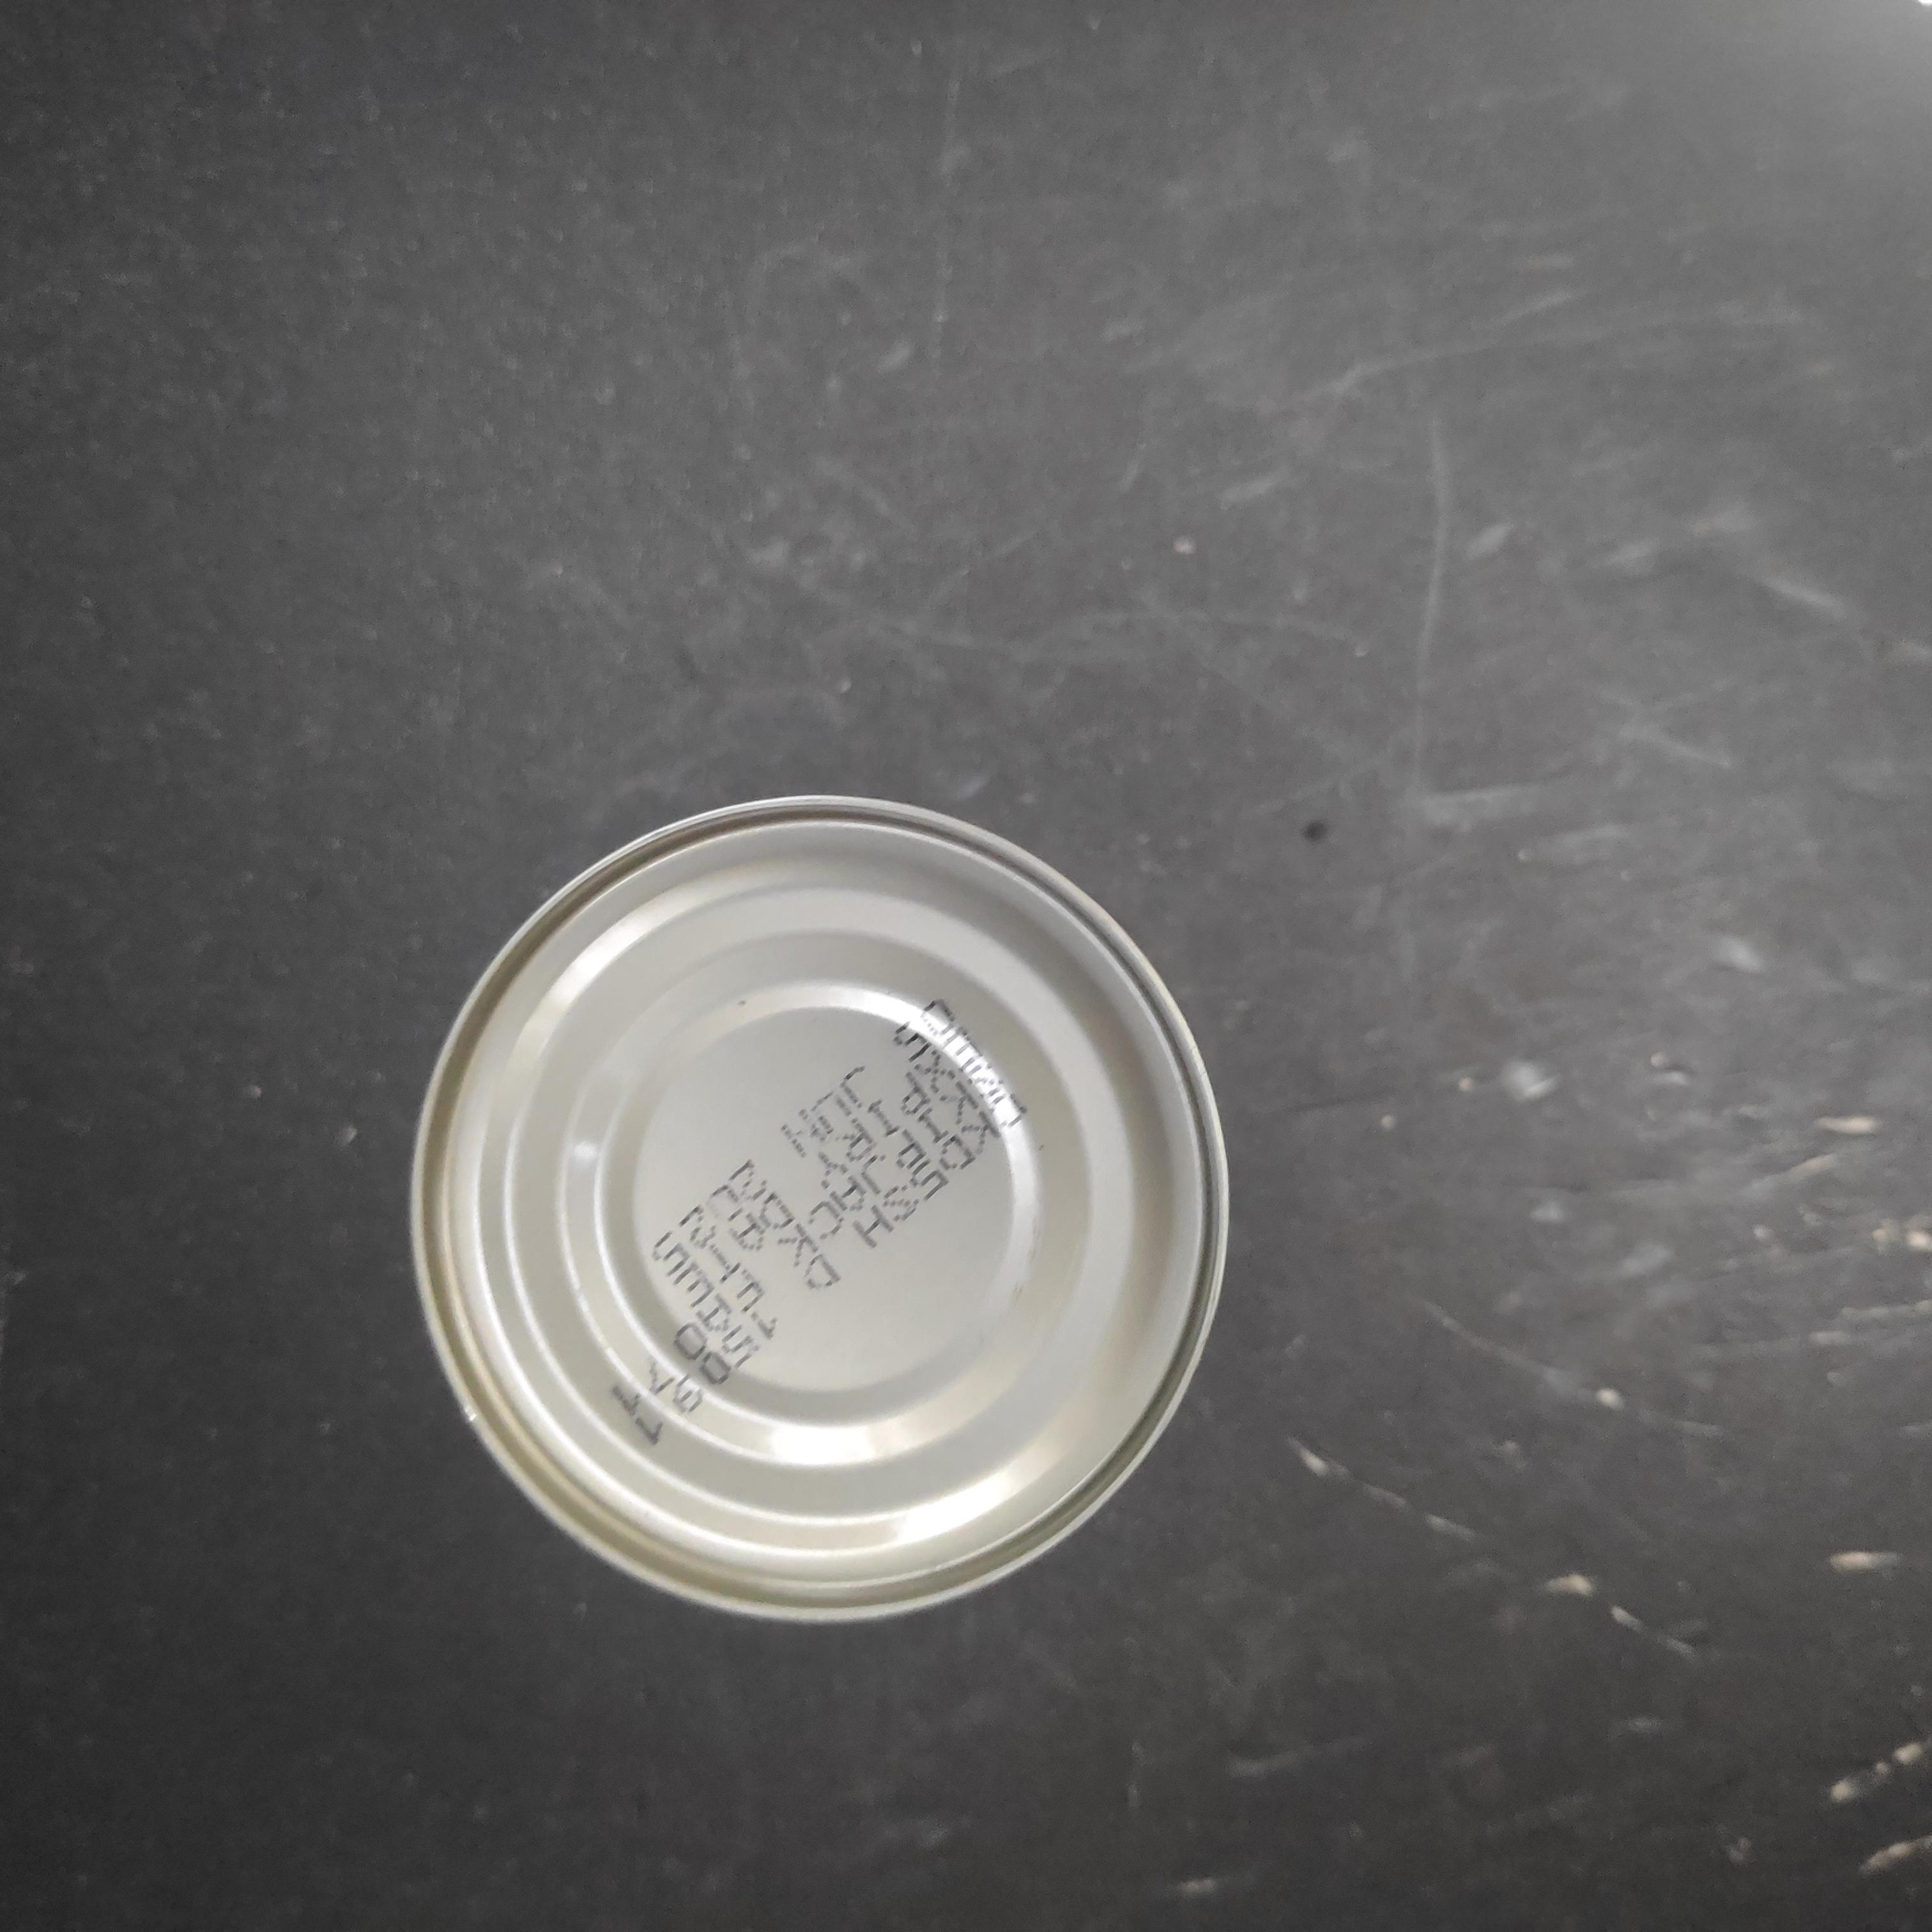No defect: (699, 304, 1525, 1141)
